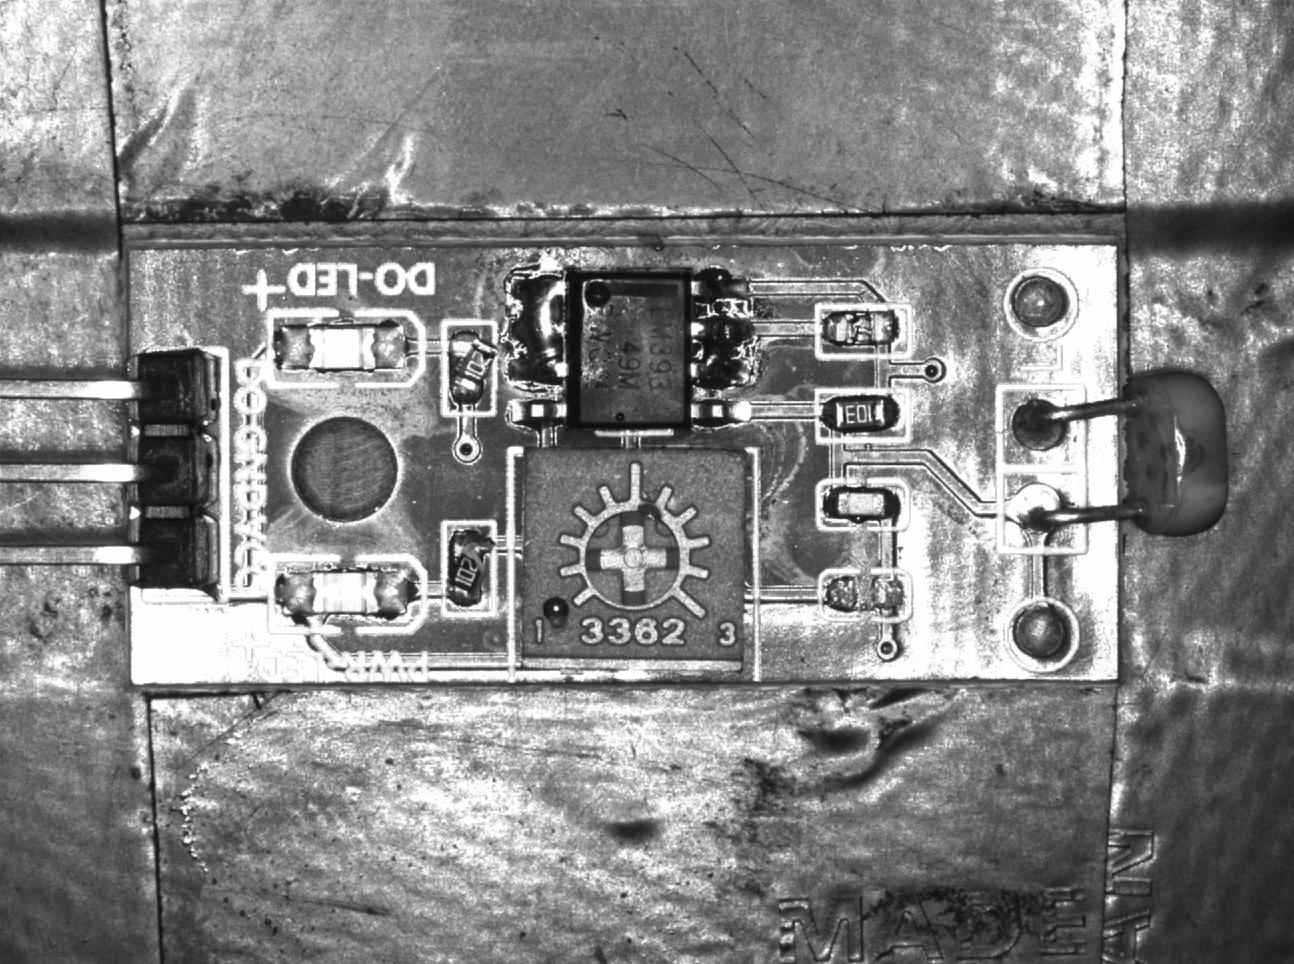bridge: (505, 272, 568, 387), (694, 313, 751, 393)
lifted: (441, 521, 496, 618), (443, 321, 497, 413)
miss: (816, 303, 910, 354), (819, 569, 911, 617)
ok: (818, 392, 912, 440), (818, 480, 908, 530)
